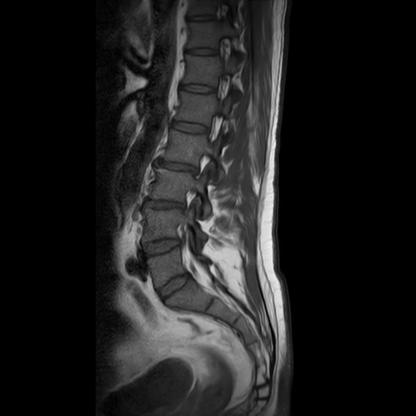Degenerative Disc Diseaserotation: (147, 197, 188, 215), (157, 158, 198, 176)
Disc Bulgerotation: (141, 236, 183, 259), (158, 158, 199, 176), (147, 197, 188, 215)
